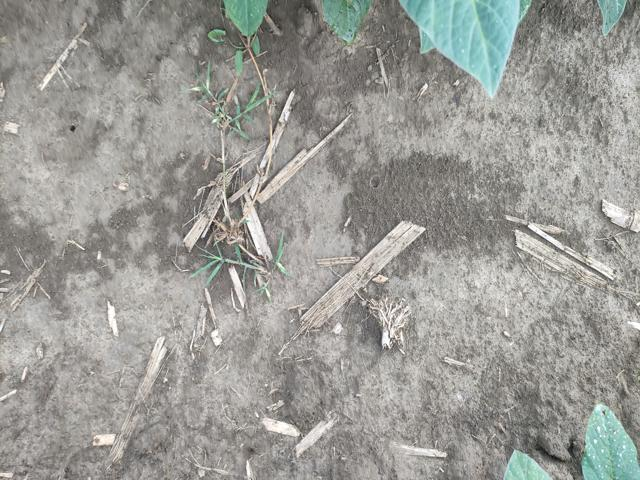bad weed: (184, 17, 290, 310)
